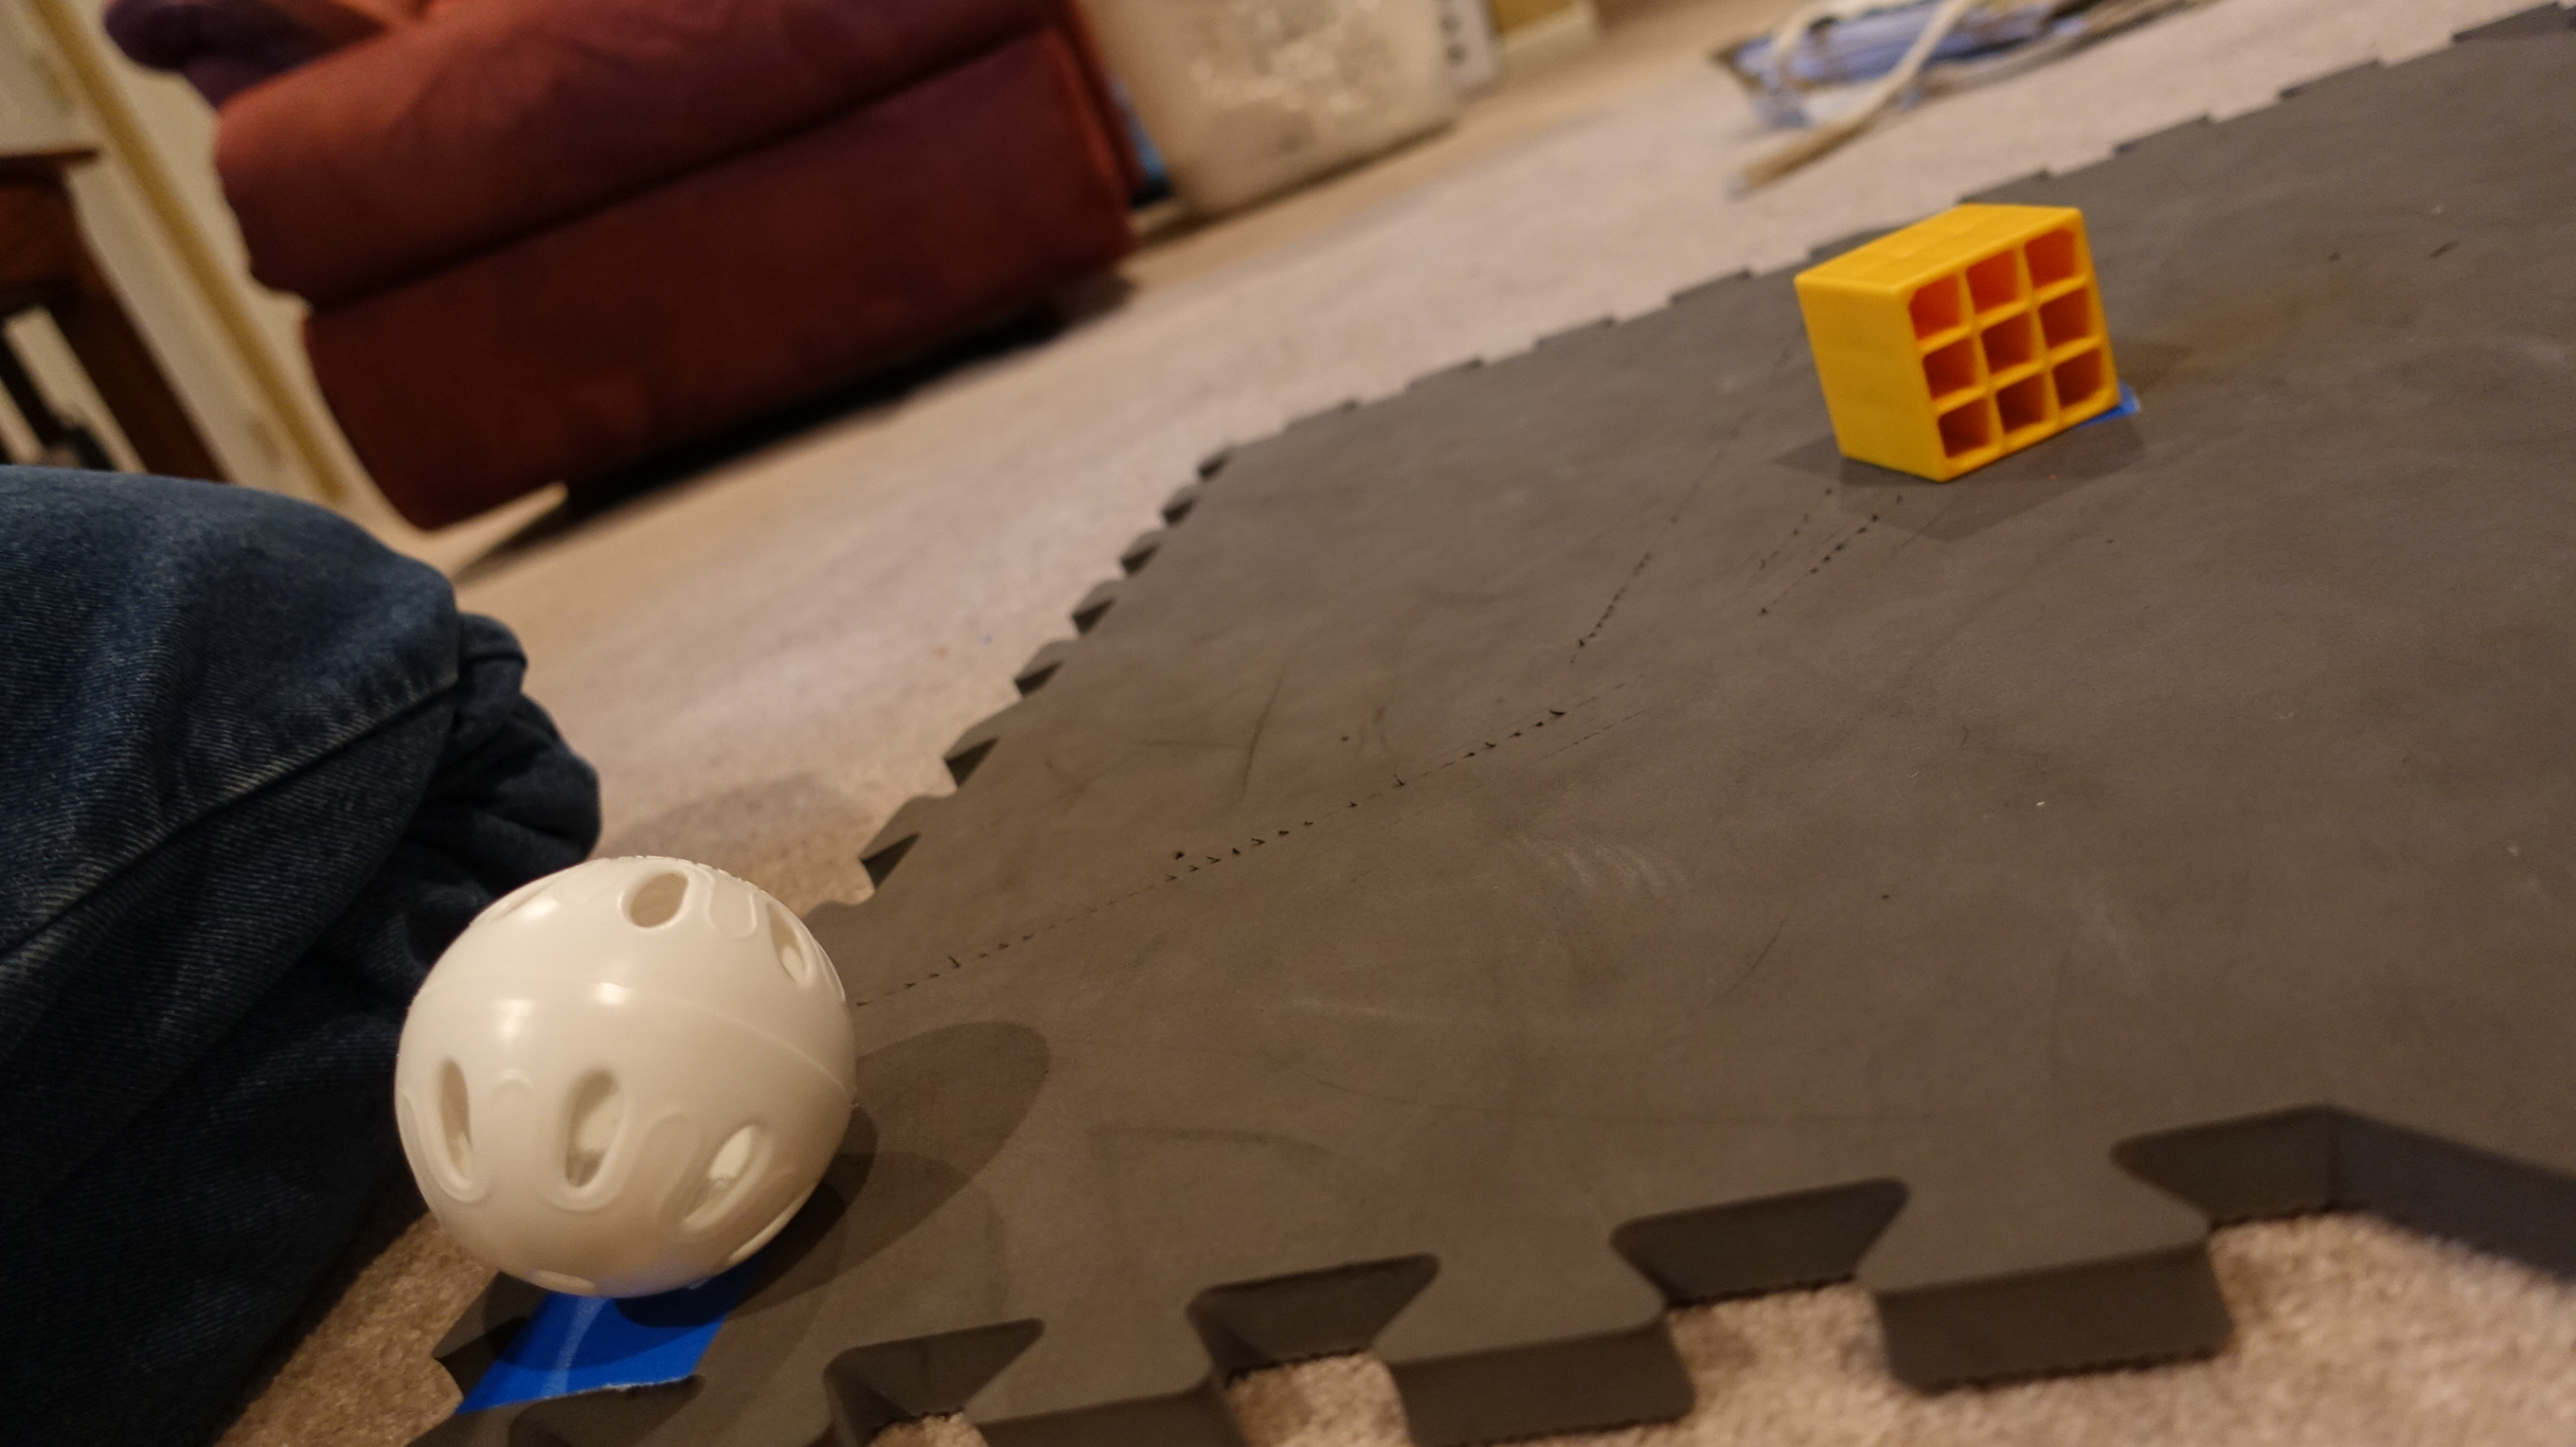gold: (1787, 191, 2135, 488)
silver: (366, 847, 879, 1320)
